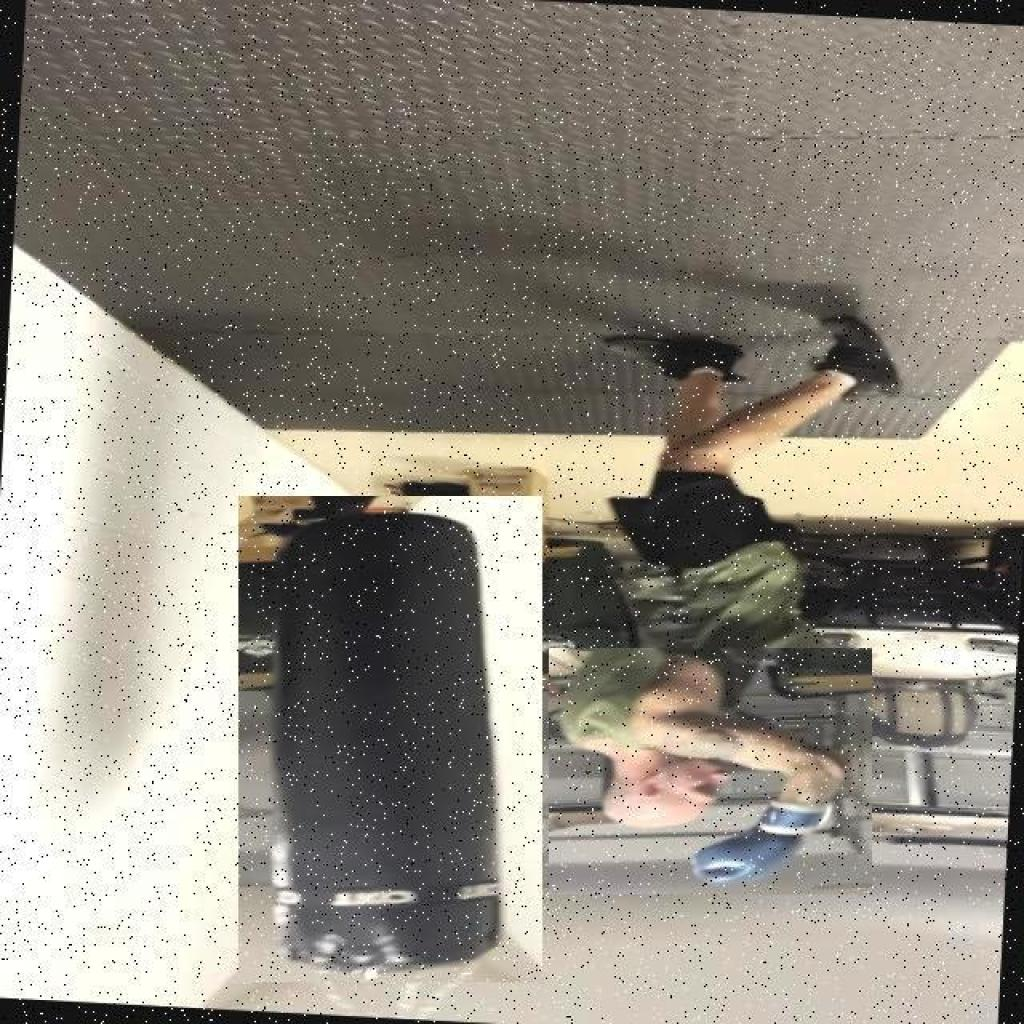bag: (238, 496, 542, 982)
uppercut: (549, 648, 872, 894)
